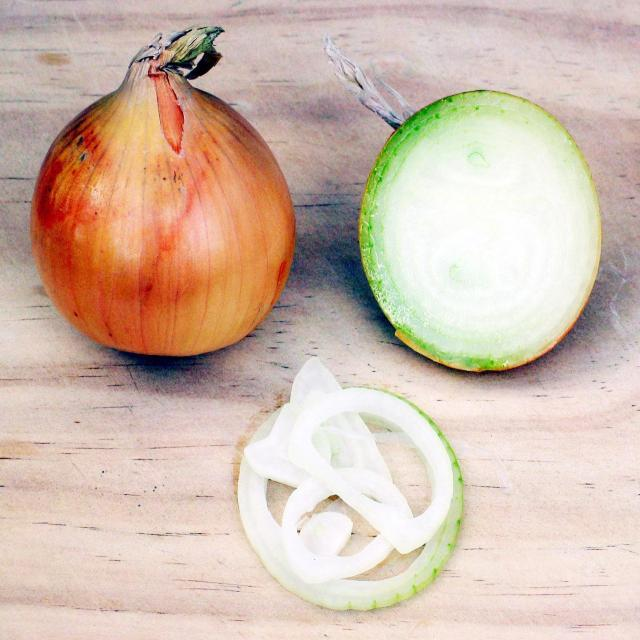Onion: (327, 31, 602, 371), (27, 20, 295, 354)
